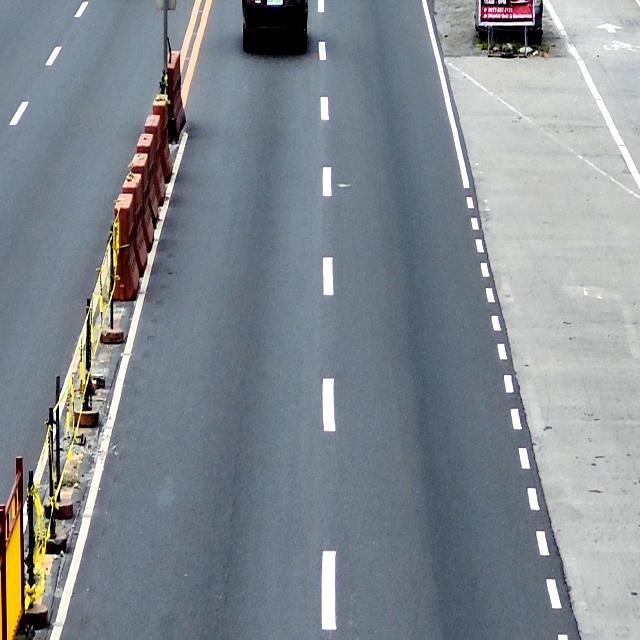Car: (242, 0, 309, 52)
